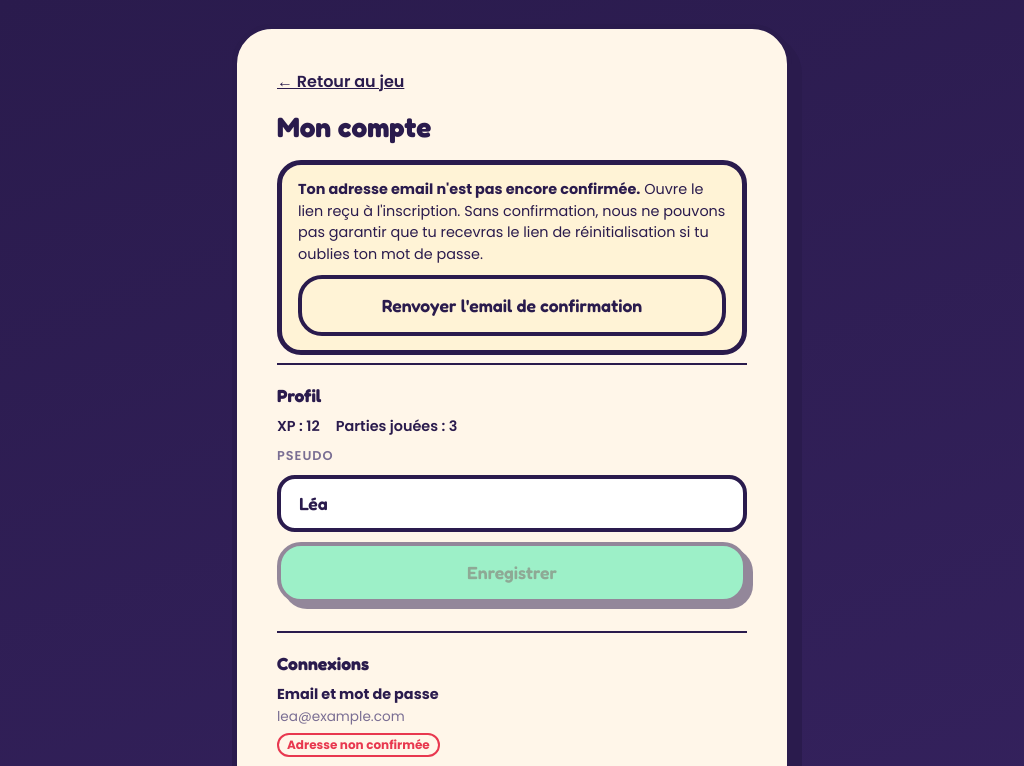
Test: AccountScreen › confirmation d'adresse › warns and offers to resend when it is not
expect the text "Adresse non confirmée" is shown: met, box [277,733,440,757]
Step 1. Click the button "Renvoyer l'email de confirmation" → (512, 306), box [298,275,726,336]
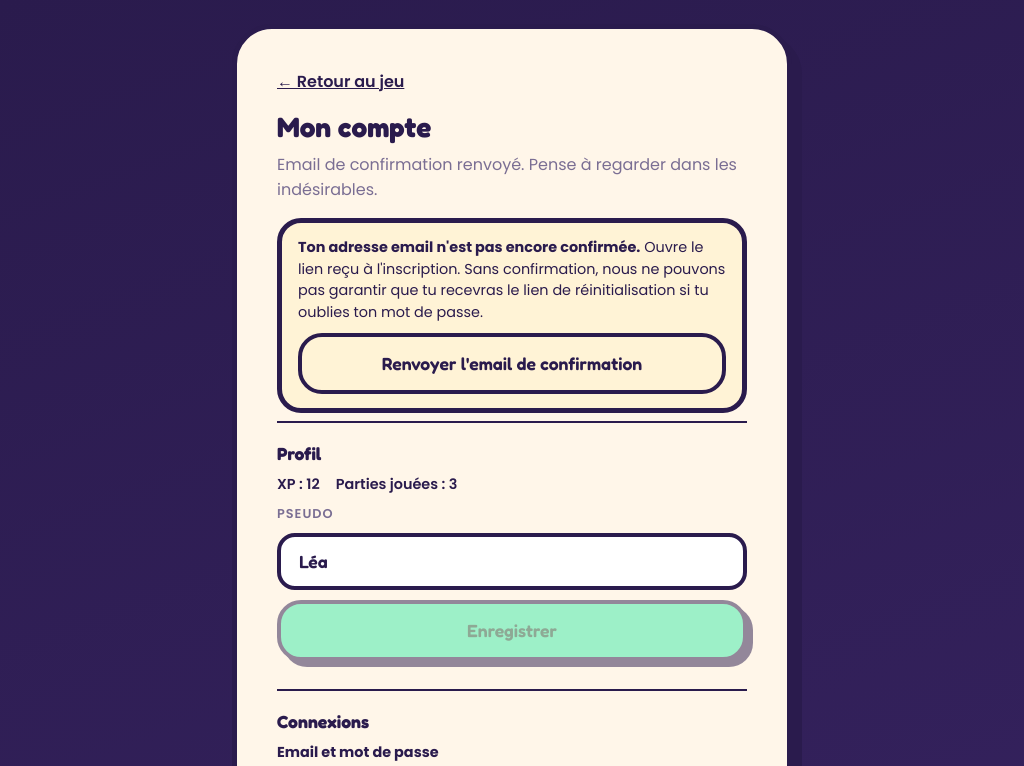
expect the text "renvoyé" is shown: met, box [277,153,737,201]
